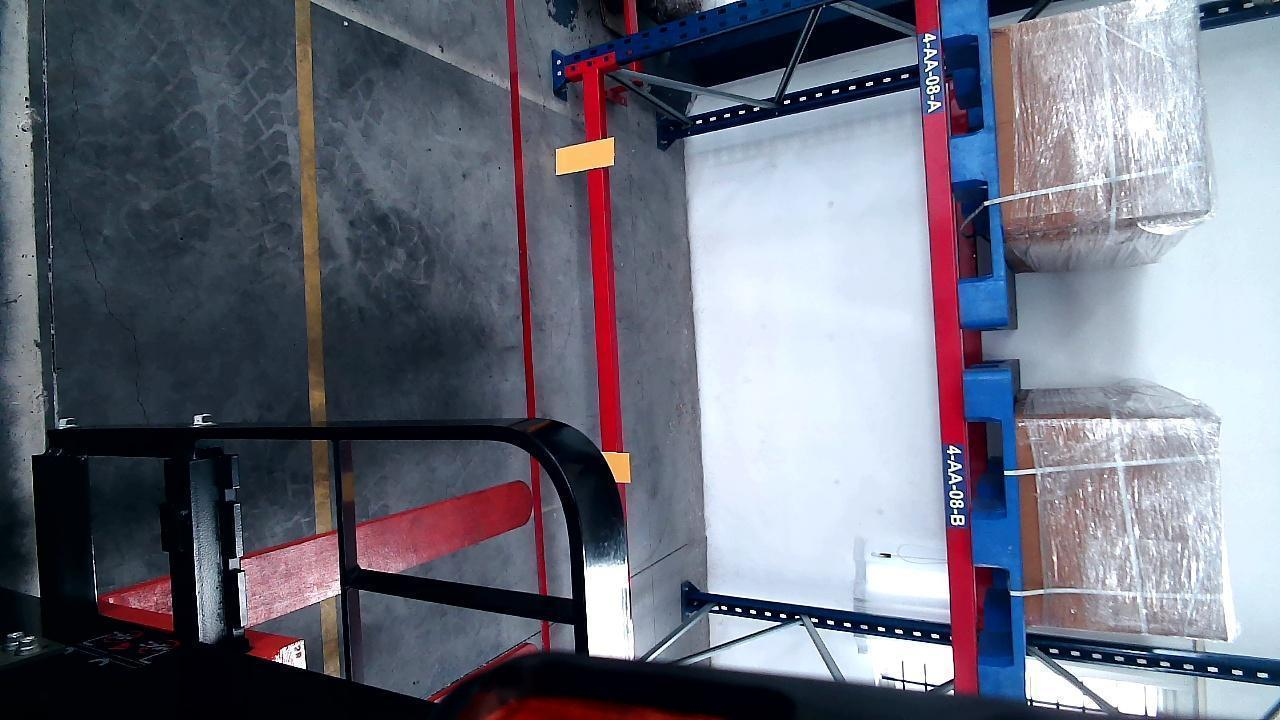red_line: (507, 0, 538, 422)
yellow_line: (297, 0, 324, 414)
